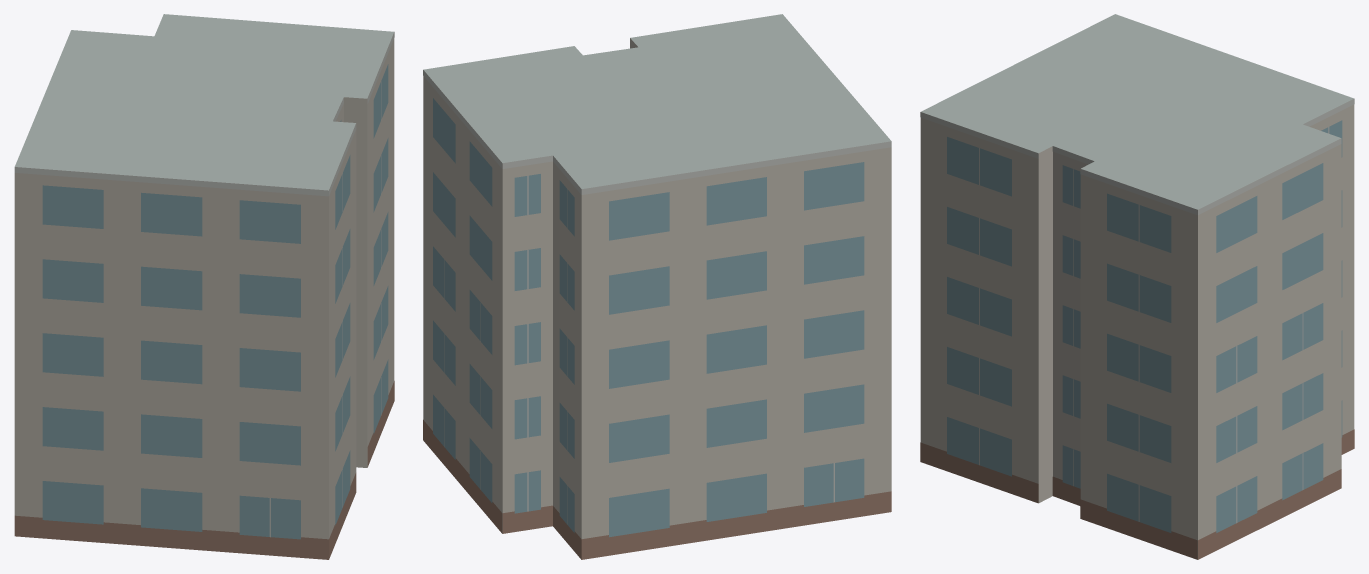
The model's file is survey-upis-32963850.glb.
3 renders of one model, left to right at view 1: azimuth 30°, elevation 25°; view 2: azimuth 150°, elevation 25°; view 3: azimuth 270°, elevation 25°, orthographic. The views are drawn at different scales.
Visible parts, largest first — view 1: survey-upis-32963850.tmp; view 2: survey-upis-32963850.tmp; view 3: survey-upis-32963850.tmp.
Boxes of the visible parts, box(x1,y1,x2,y2) form: survey-upis-32963850.tmp: box(14, 14, 394, 559); survey-upis-32963850.tmp: box(423, 14, 891, 559); survey-upis-32963850.tmp: box(920, 14, 1354, 559).
Size of the model in its own units: 18.3 by 15.25 by 17.14.
